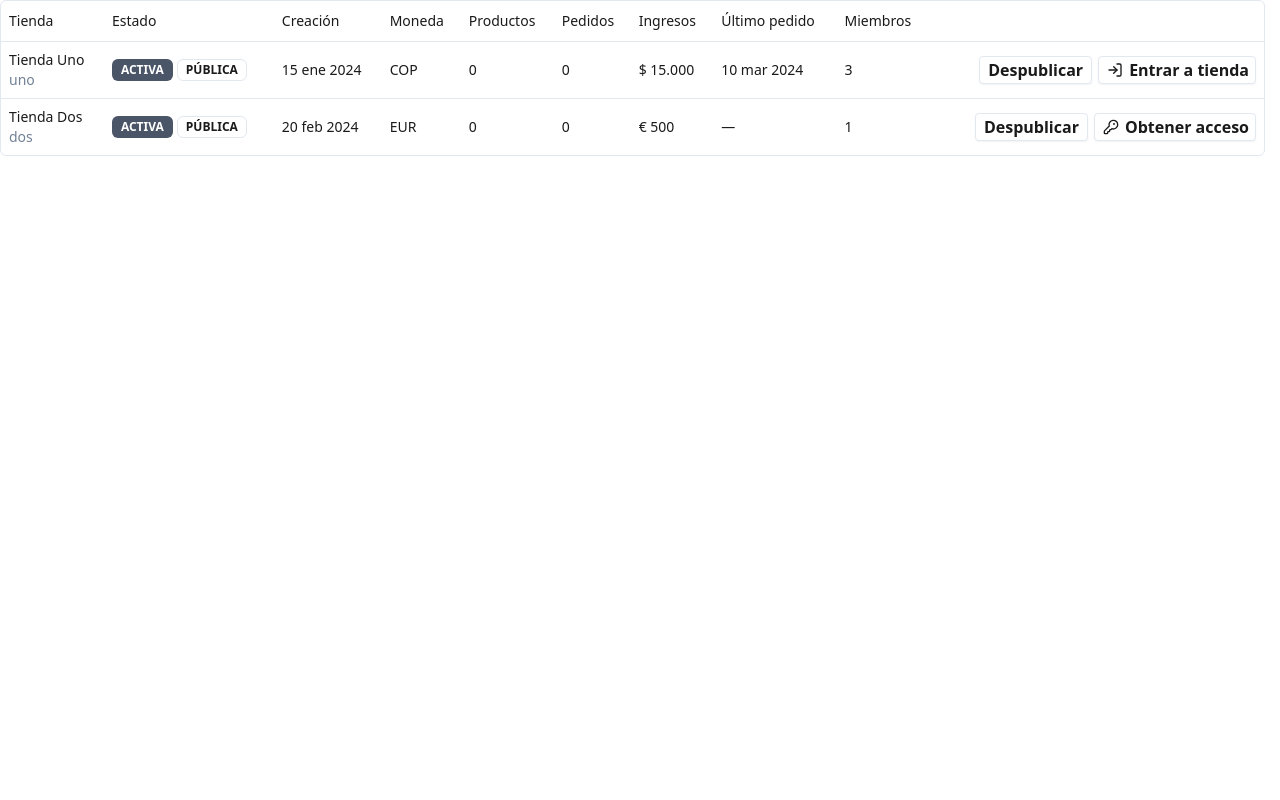
Test: TenantsTable membership flip (D3) › grants the membership for that store only after confirming
The width and height of the screenshot is (1280, 800).
Click the button "Obtener acceso": (1175, 126) [1094, 112, 1256, 140]
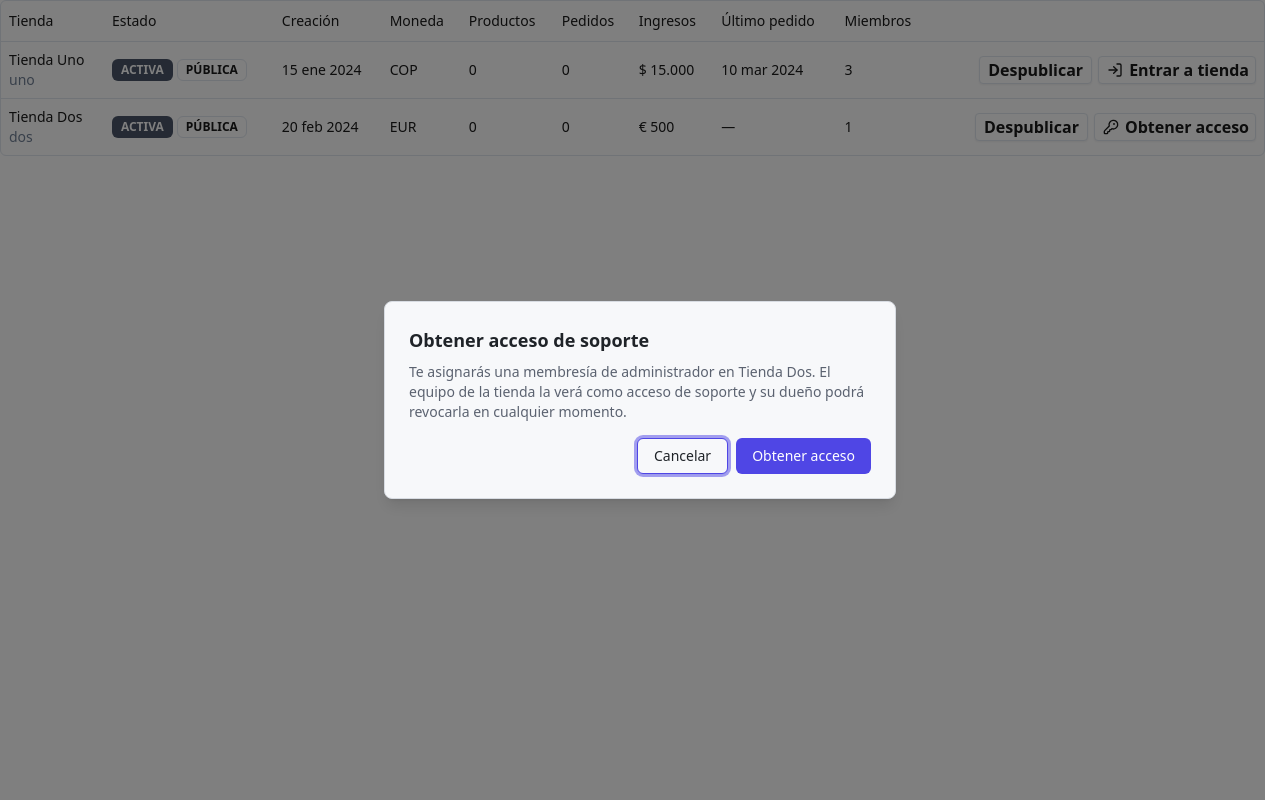
Click the button "Obtener acceso": (804, 456) [736, 438, 871, 474]
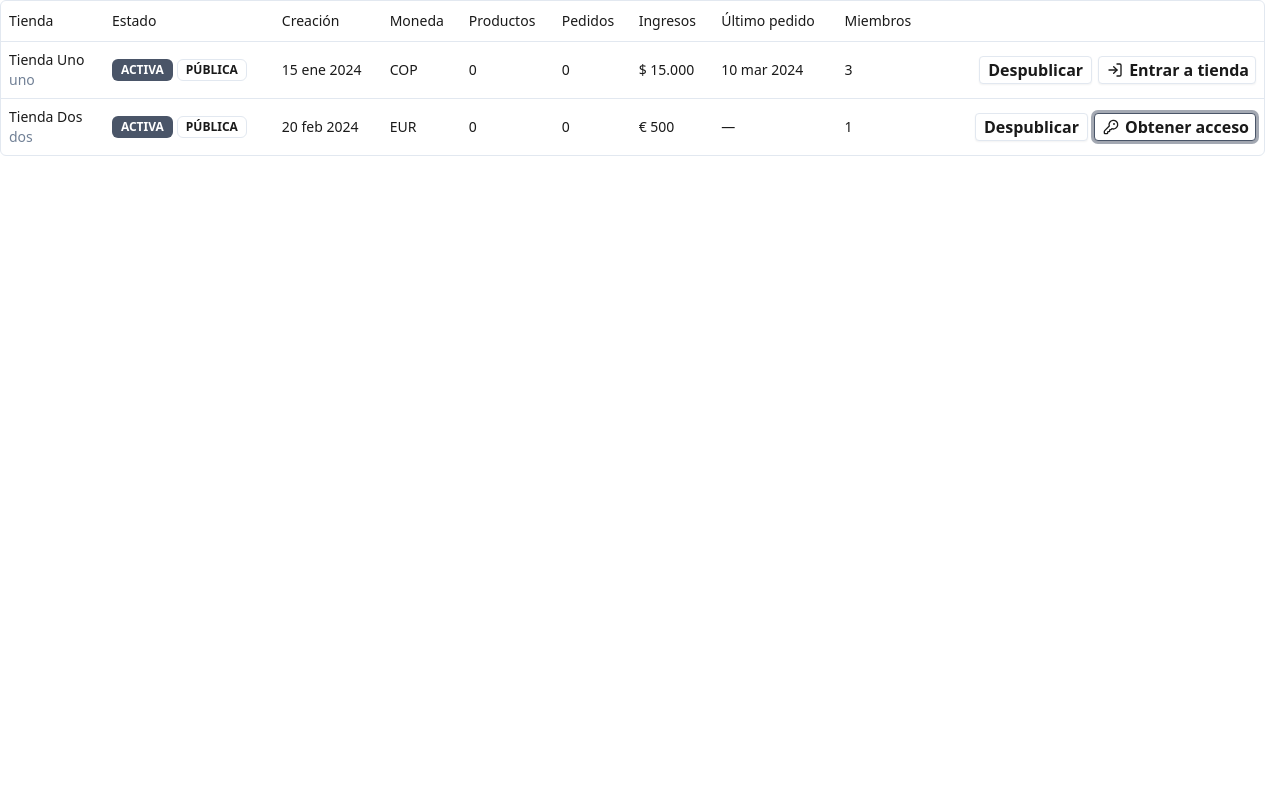
Result: the dialog is gone
